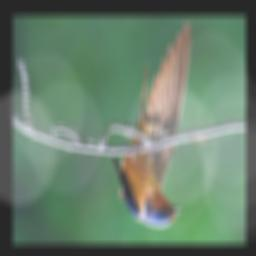Swallow: (104, 21, 194, 229)
